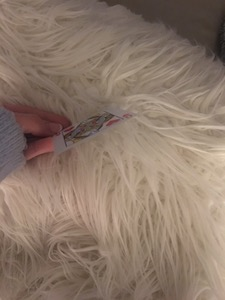QueenOfHearts: (52, 101, 135, 157)
